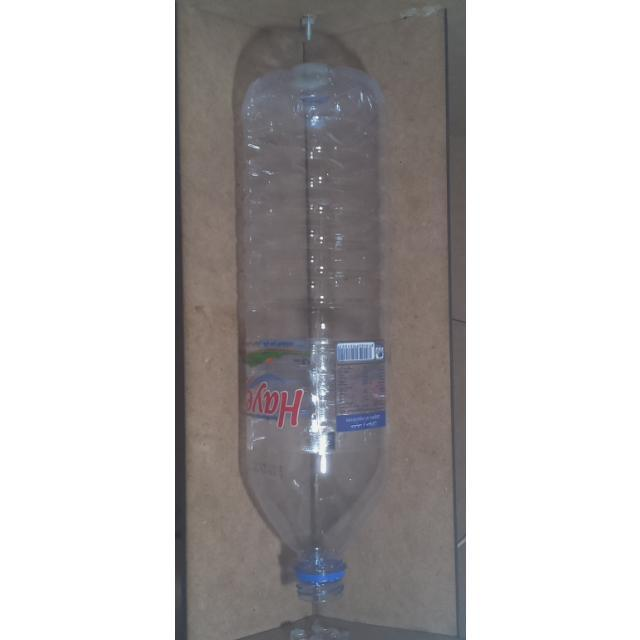Botella de plastico: (240, 62, 385, 604)
